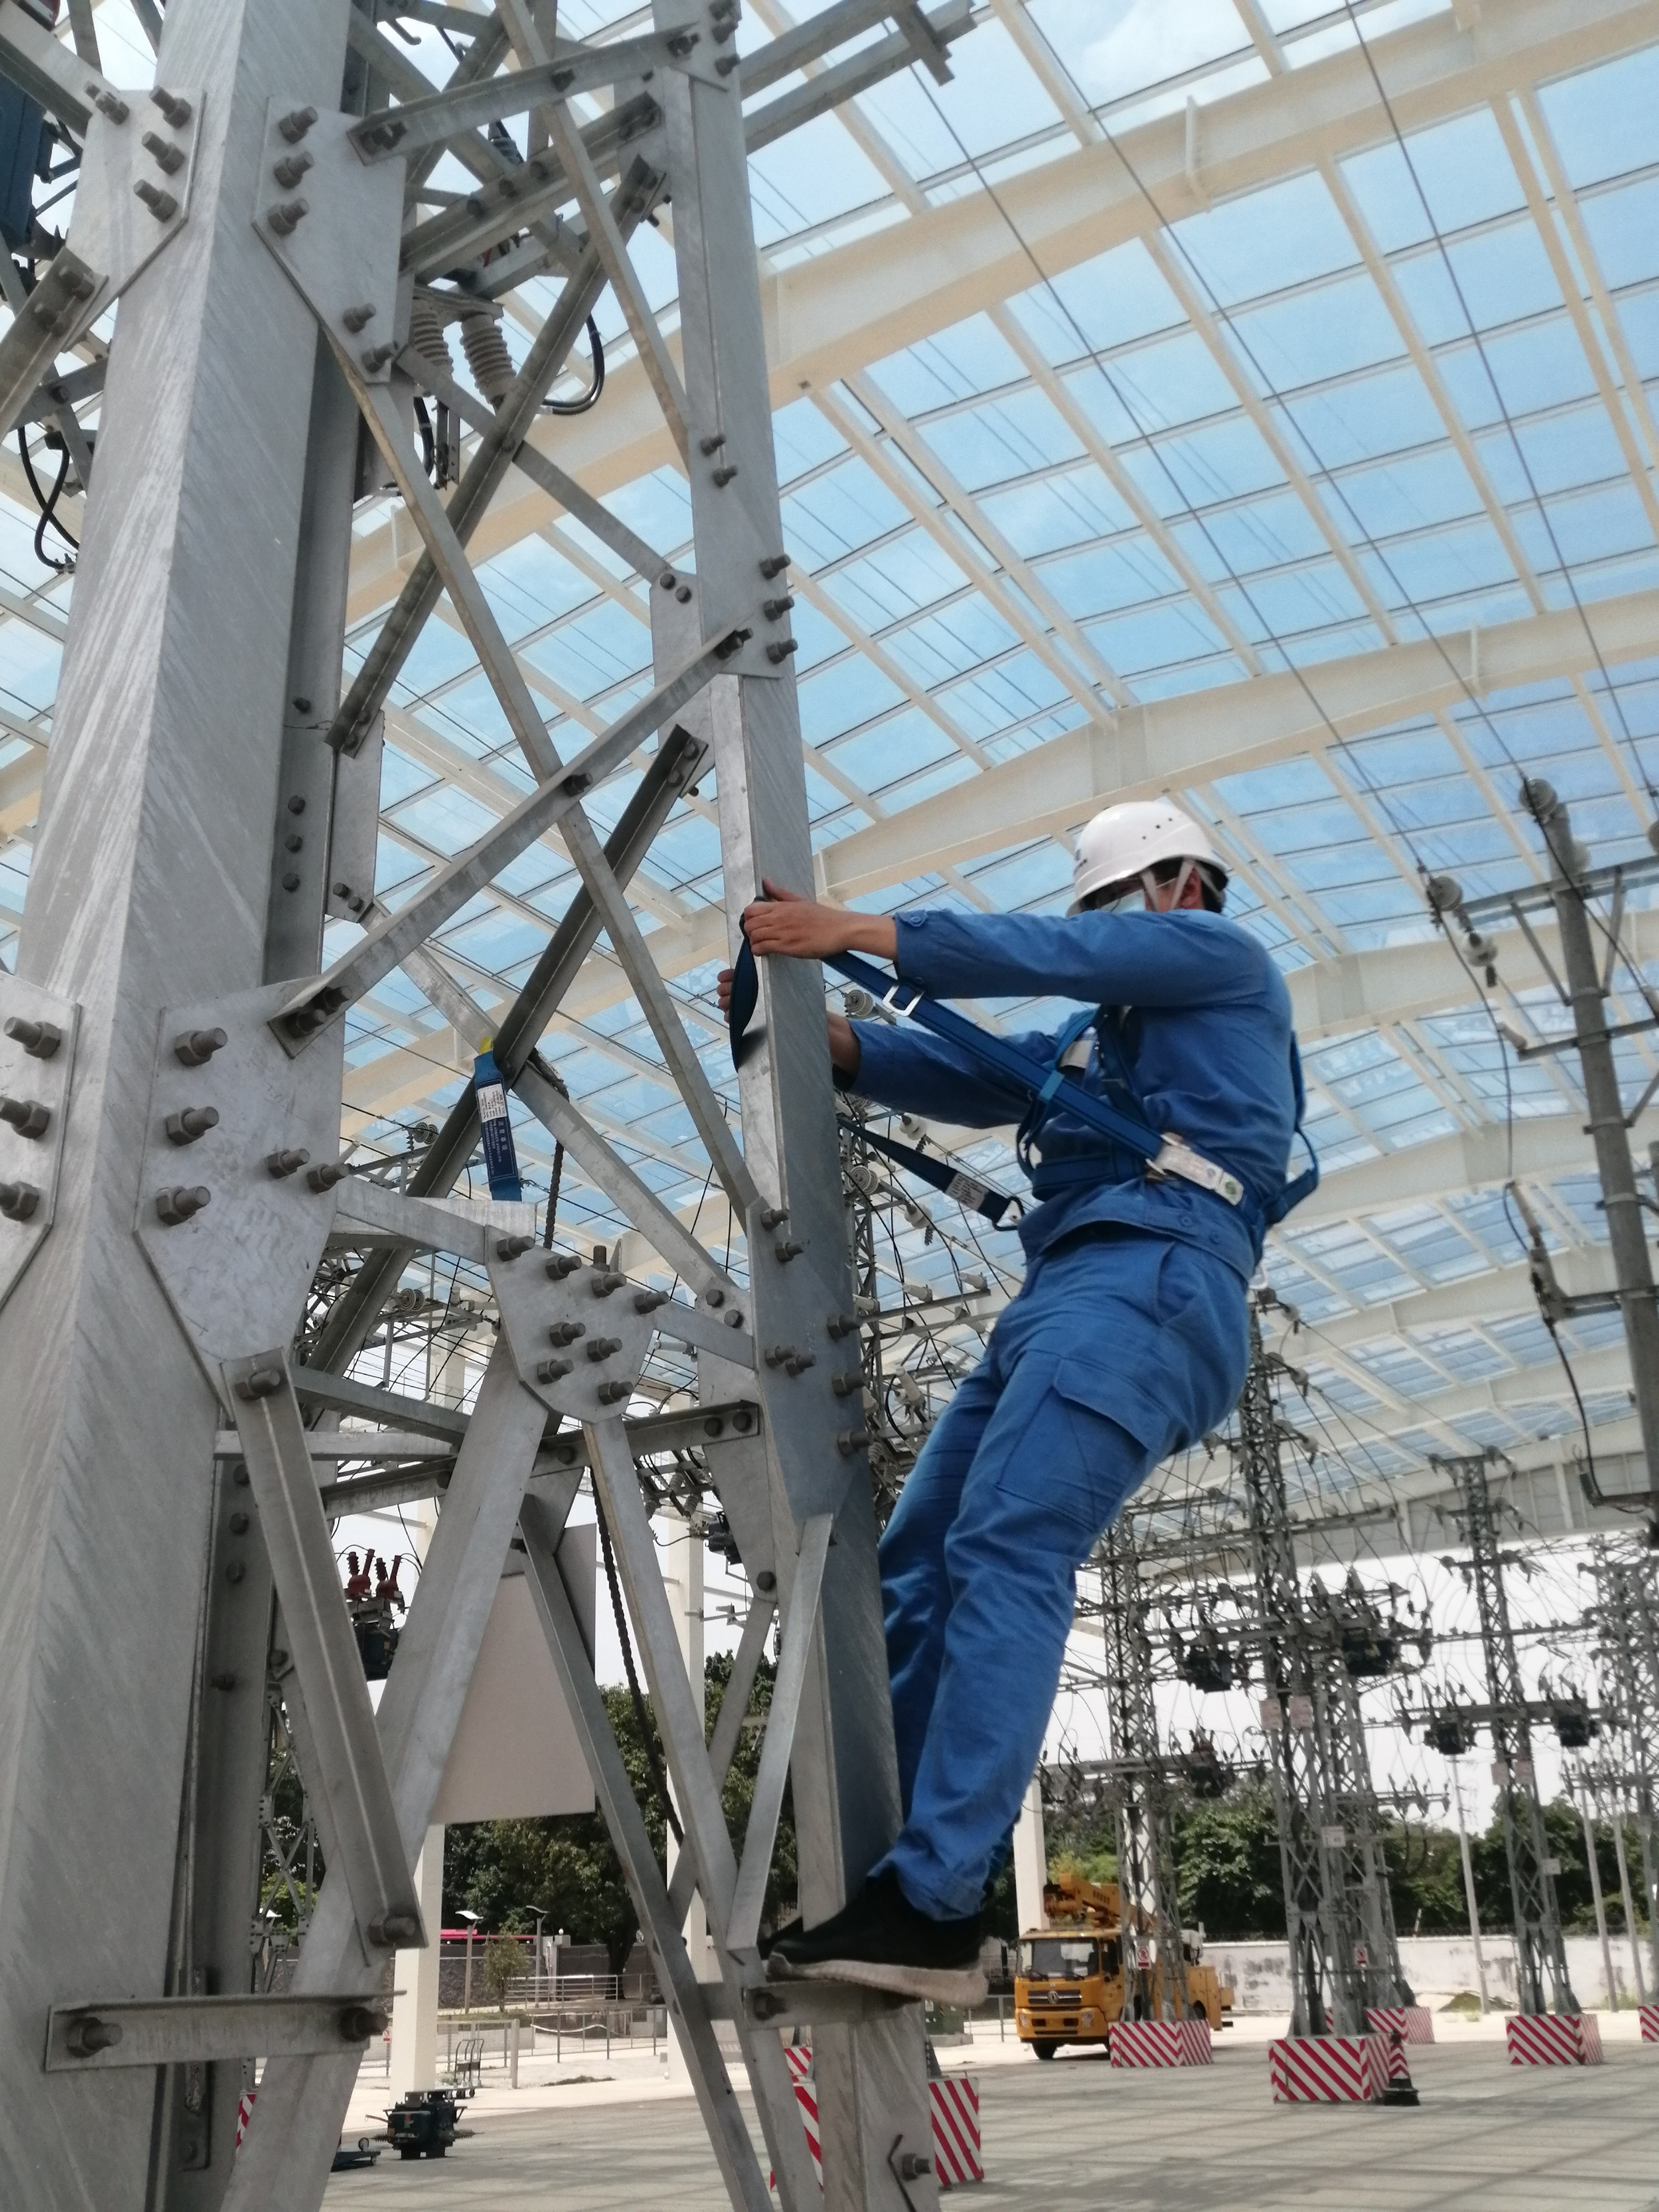downsuit: (840, 1278, 1272, 1916)
upsuit: (854, 900, 1314, 1244)
